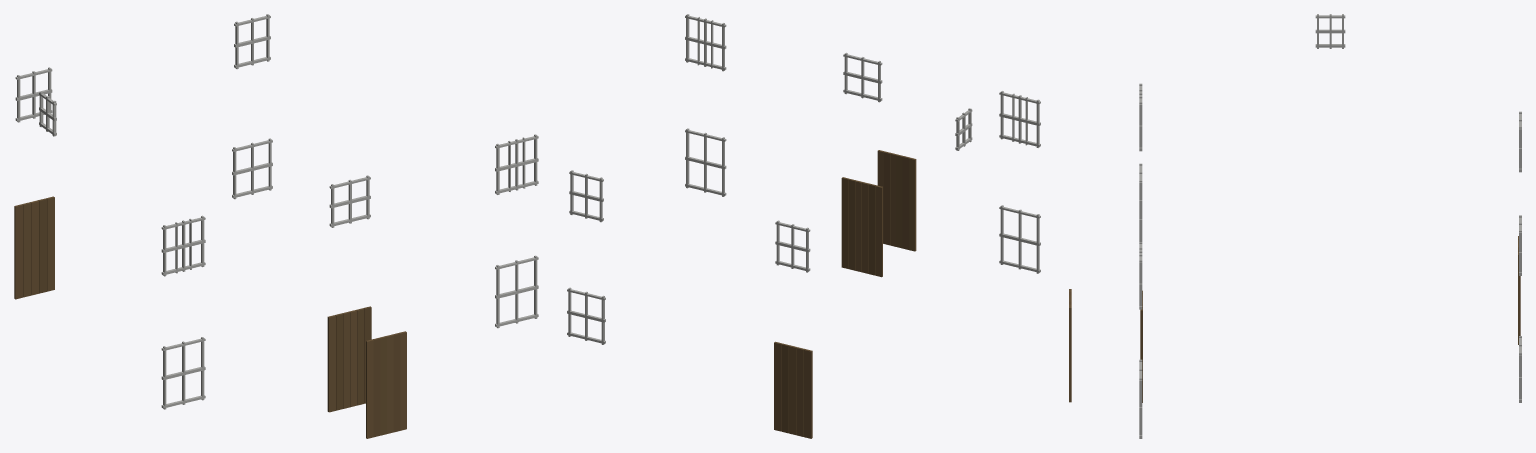
Rendered from SM_Bld_073_Wood.glb.
3 views of the same model, side by side, from view 1: azimuth 30°, elevation 25°; view 2: azimuth 150°, elevation 25°; view 3: azimuth 270°, elevation 25° (orthographic). The views are drawn at different scales.
Visible parts, largest first — view 1: SM_Bld_073_Wood; view 2: SM_Bld_073_Wood; view 3: SM_Bld_073_Wood.
Part boxes in pixels (x1,y1,x2,y2): SM_Bld_073_Wood: (14,14,538,438); SM_Bld_073_Wood: (567,14,1040,438); SM_Bld_073_Wood: (1069,14,1521,438).
Size of the model in its own units: 8.91 by 6.25 by 9.12.
